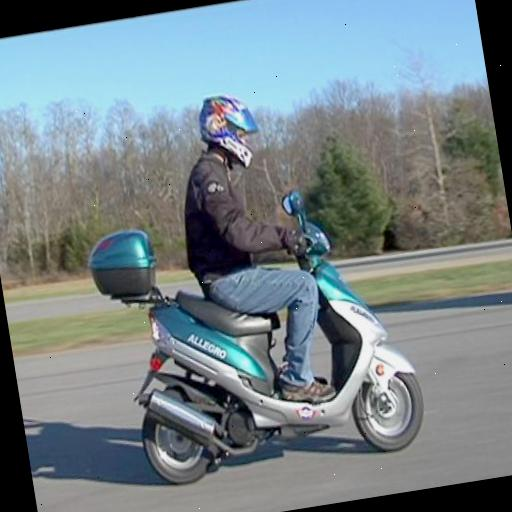helmet: (130, 40, 437, 488)
